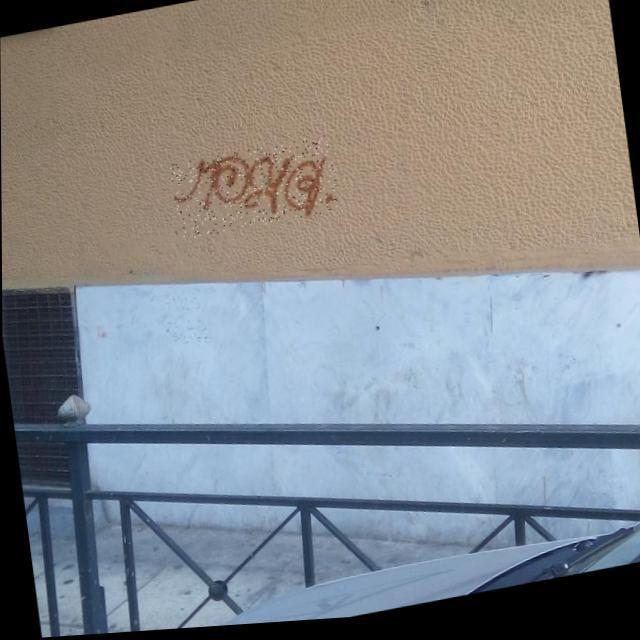-: (169, 138, 339, 243)
